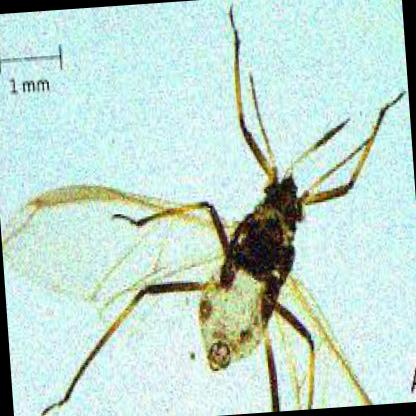uroleucon compositae: (6, 13, 372, 410)
